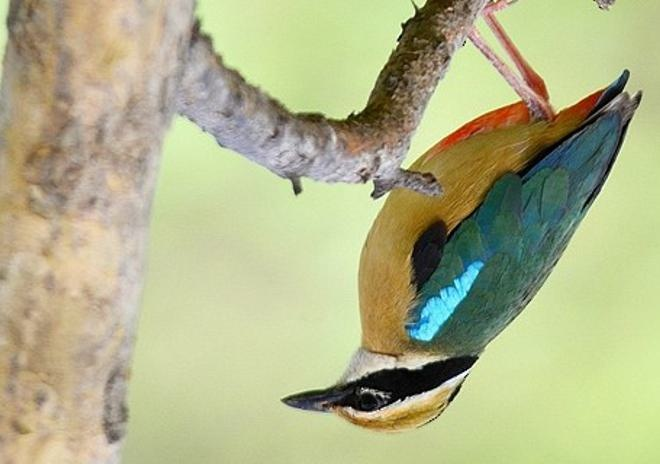pitta: (273, 39, 649, 438)
